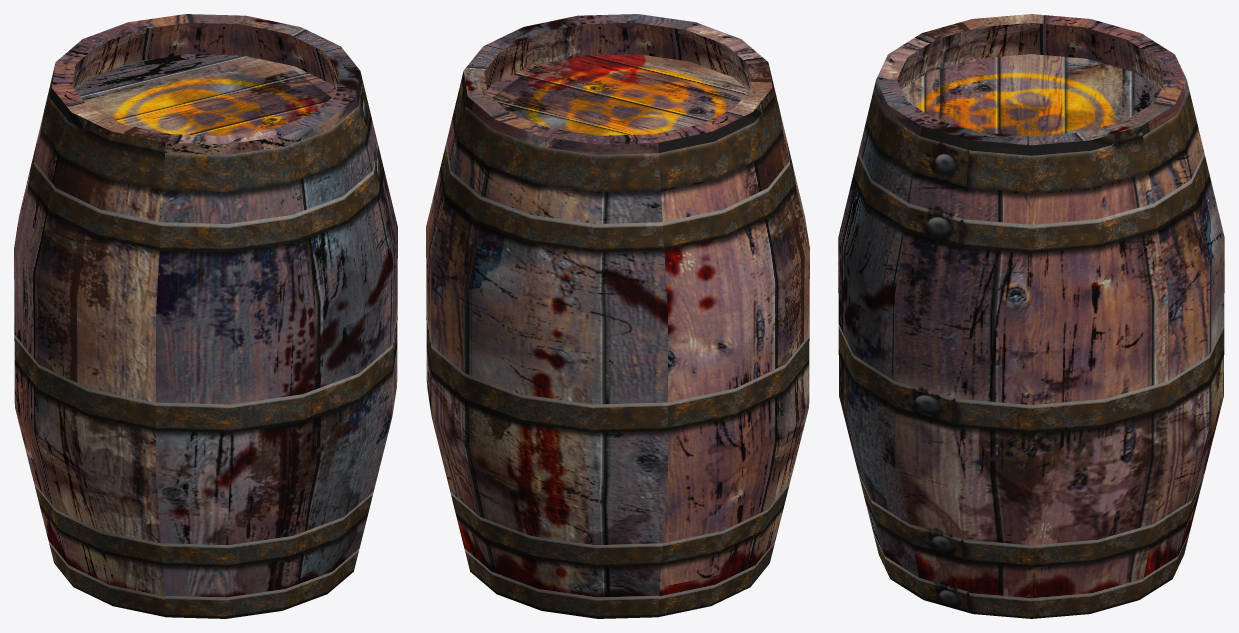
Rendered from Barrel_3.fbx.
3 renders of one model, left to right at view 1: azimuth 30°, elevation 25°; view 2: azimuth 150°, elevation 25°; view 3: azimuth 270°, elevation 25°, orthographic.
Parts seen in each view (by area): view 1: Barrel_1:Mesh; view 2: Barrel_1:Mesh; view 3: Barrel_1:Mesh.
Part boxes in pixels (x1,y1,x2,y2): Barrel_1:Mesh: (14,14,397,618); Barrel_1:Mesh: (426,14,809,618); Barrel_1:Mesh: (838,14,1224,618).
Bounding box in the file's own units: 0.8792 × 1.19 × 0.8792.
